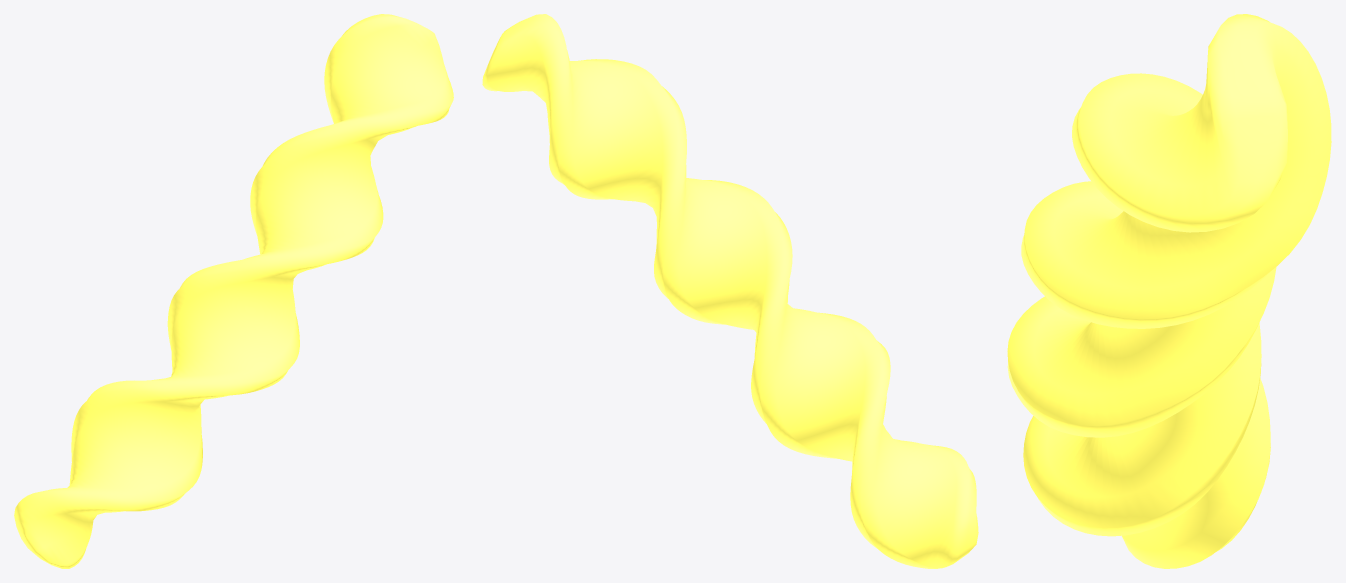
Rendered from Fusili.gltf.
The picture shows the model from 3 angles, left to right: view 1: azimuth 30°, elevation 25°; view 2: azimuth 150°, elevation 25°; view 3: azimuth 270°, elevation 25°; orthographic projection. The views are drawn at different scales.
Parts seen in each view (by area): view 1: Fusili; view 2: Fusili; view 3: Fusili.
Boxes of the visible parts, box(x1,y1,x2,y2) form: Fusili: box(14, 14, 453, 568); Fusili: box(482, 14, 978, 568); Fusili: box(1007, 14, 1331, 568).
Bounding box in the file's own units: 2.51 × 2.44 × 0.8399.
